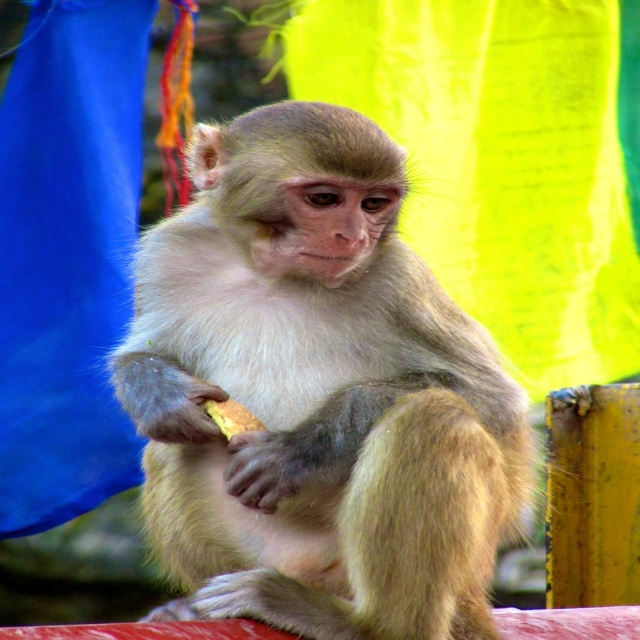Monkey: (72, 98, 595, 640)
